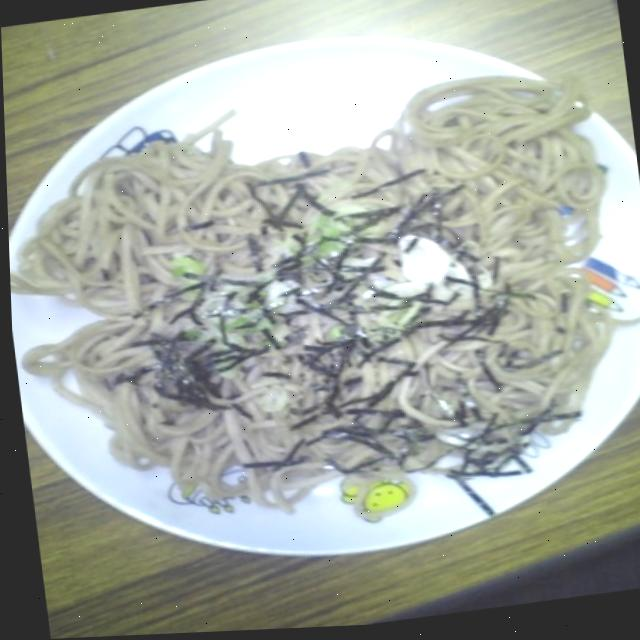面条主食: (1, 0, 640, 598)
